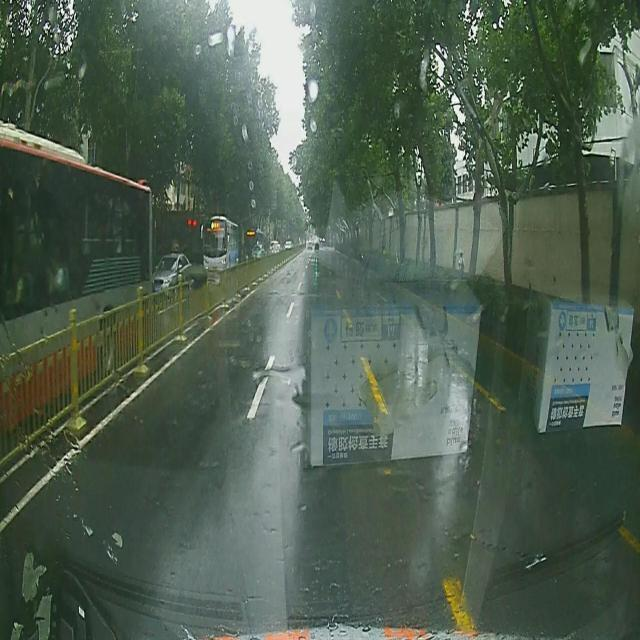car: (0, 121, 156, 422), (150, 250, 194, 296), (250, 242, 265, 260), (282, 237, 293, 254), (313, 235, 321, 252), (303, 237, 311, 250)
